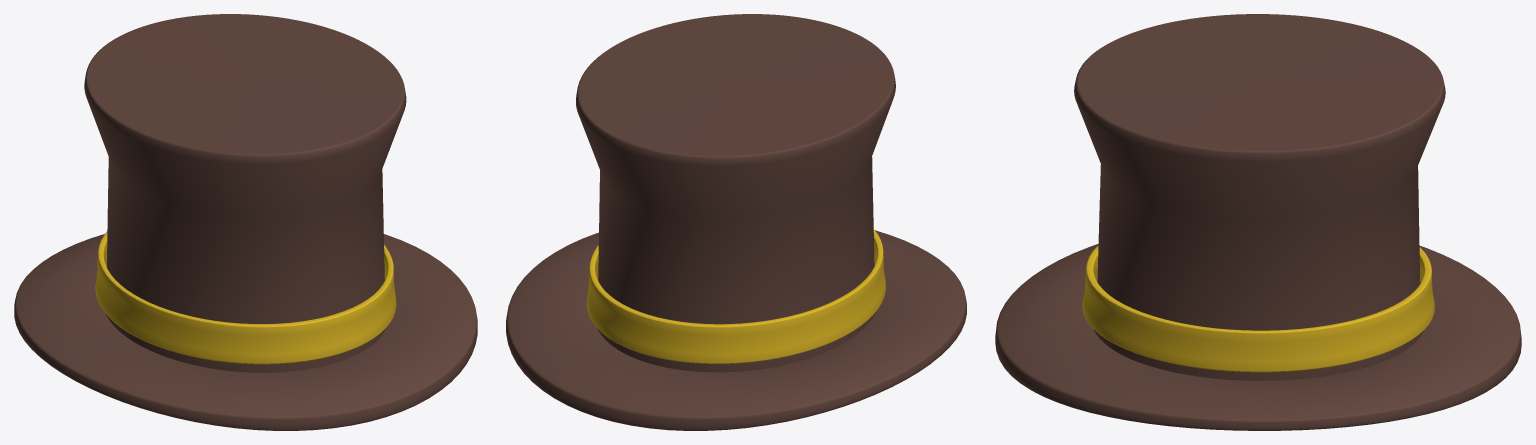
Rendered from brown_top_hat.glb.
3 views of the same model, side by side, from view 1: azimuth 30°, elevation 25°; view 2: azimuth 150°, elevation 25°; view 3: azimuth 270°, elevation 25° (orthographic). The views are drawn at different scales.
Parts seen in each view (by area): view 1: Tall_open_crown, Brim, Wide_ribbon; view 2: Tall_open_crown, Brim, Wide_ribbon; view 3: Tall_open_crown, Brim, Wide_ribbon.
Boxes of the visible parts, bbox=[...] form: Tall_open_crown: bbox=[84, 14, 406, 372]; Brim: bbox=[14, 234, 477, 430]; Wide_ribbon: bbox=[95, 231, 396, 364]; Tall_open_crown: bbox=[576, 14, 895, 372]; Brim: bbox=[506, 230, 966, 430]; Wide_ribbon: bbox=[586, 229, 885, 363]; Tall_open_crown: bbox=[1074, 14, 1445, 380]; Brim: bbox=[995, 244, 1521, 430]; Wide_ribbon: bbox=[1082, 245, 1434, 372].
Bounding box in the file's own units: 1.14 × 0.6989 × 1.26.
